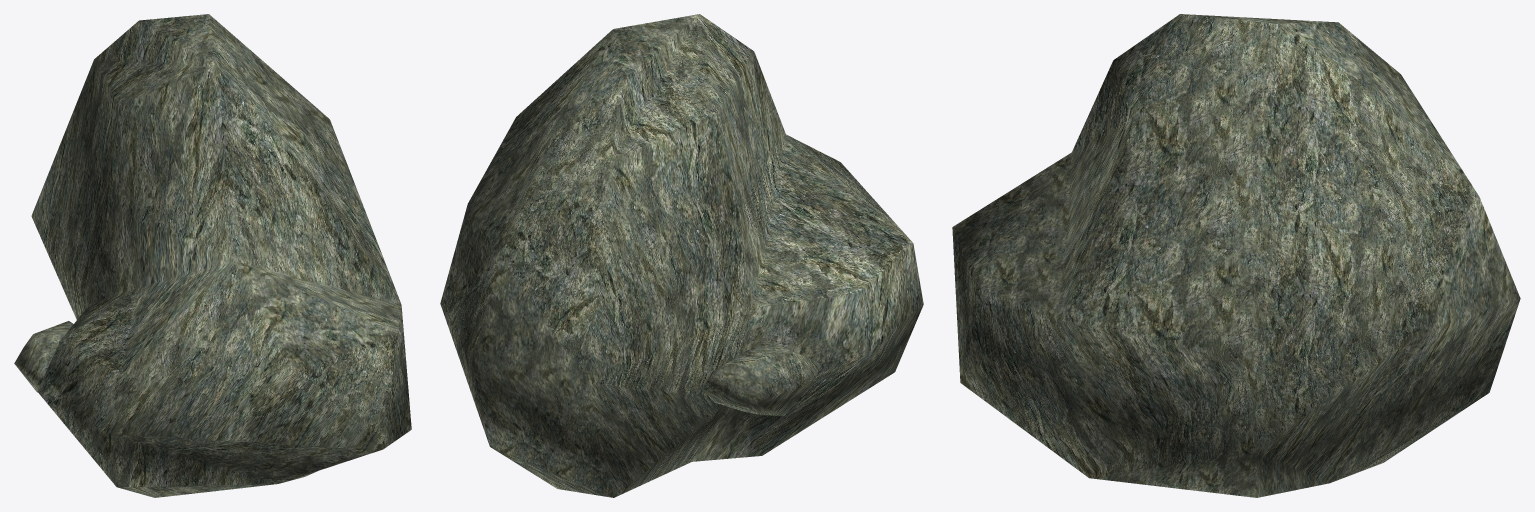
File: mtns_rock_grey_a3_l0.fbx
3 views of the same model, side by side, from view 1: azimuth 30°, elevation 25°; view 2: azimuth 150°, elevation 25°; view 3: azimuth 270°, elevation 25° (orthographic). The views are drawn at different scales.
Visible parts, largest first — view 1: mesh_node; view 2: mesh_node; view 3: mesh_node.
Part boxes in pixels (x1,y1,x2,y2): mesh_node: (14, 14, 411, 497); mesh_node: (440, 14, 923, 497); mesh_node: (952, 14, 1520, 497).
Size of the model in its own units: 2.64 by 2.98 by 3.49.
1 material, 1 textured.
